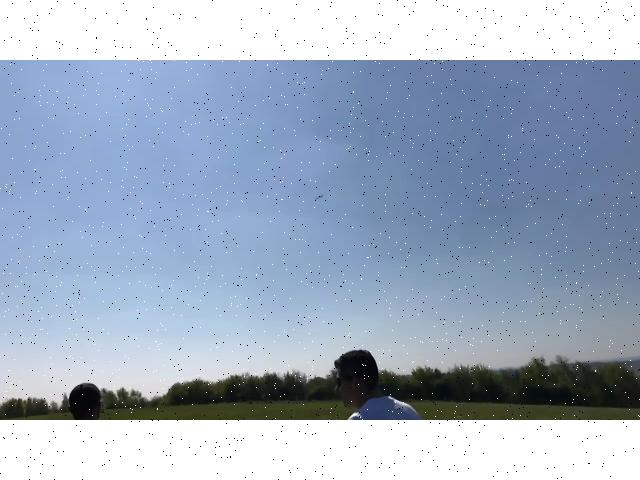Anti-Drone: (315, 191, 329, 200)
